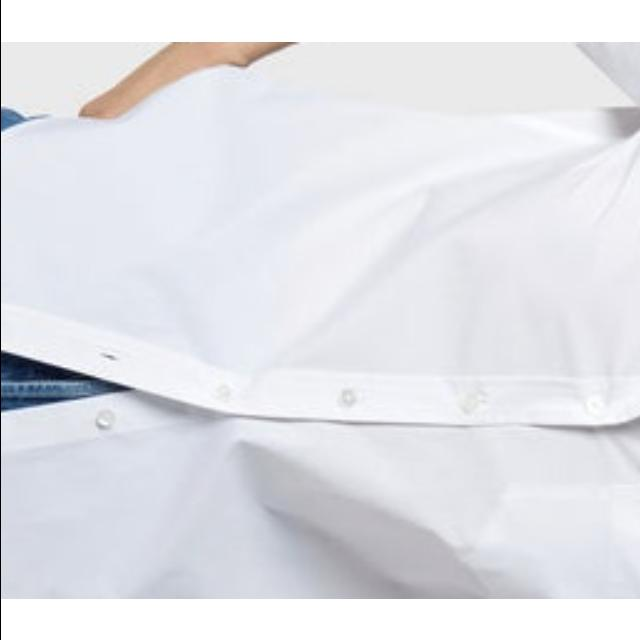cotton: (92, 41, 640, 598)
